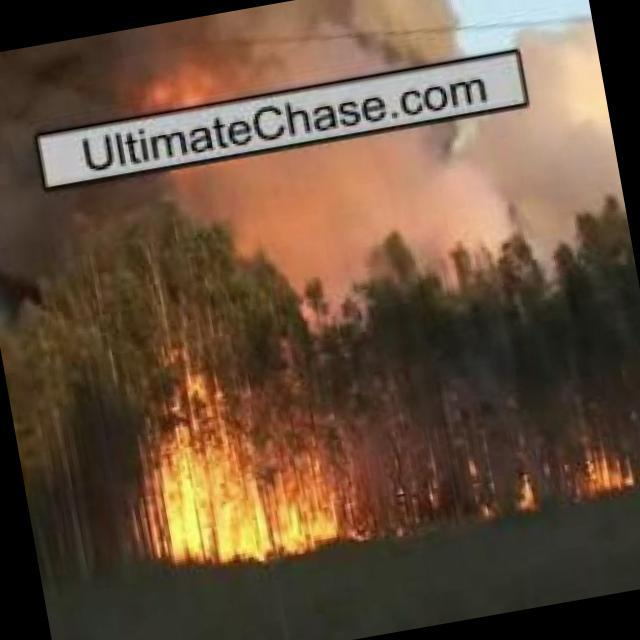Fire: (118, 346, 371, 582), (458, 437, 543, 529), (577, 432, 640, 504)
